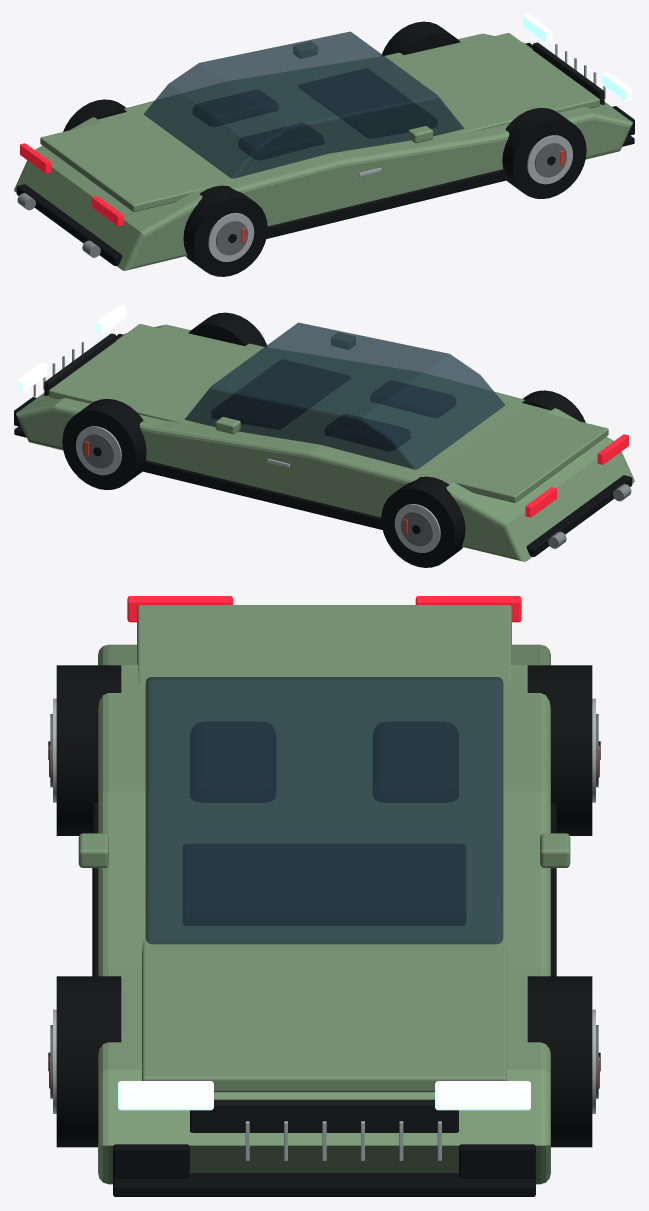
The model's file is lambo_sian_roadster.glb.
The picture shows the model from 3 angles, top to bottom: view 1: azimuth 30°, elevation 25°; view 2: azimuth 150°, elevation 25°; view 3: azimuth 270°, elevation 25°; orthographic projection. The views are drawn at different scales.
Visible parts, largest first — view 1: sculpted_body, glasshouse, hood_center, rear_deck, dashboard, front_right_wheel_tire, rear_right_wheel_tire, side_skirt_1, seat_1, seat_-1, front_left_wheel_tire, rear_diffuser (+10 smaller); view 2: sculpted_body, glasshouse, hood_center, rear_deck, dashboard, front_left_wheel_tire, rear_left_wheel_tire, side_skirt_-1, seat_-1, seat_1, front_right_wheel_tire, rear_diffuser (+10 smaller); view 3: sculpted_body, glasshouse, hood_center, rear_deck, dashboard, front_splitter, front_left_wheel_tire, front_right_wheel_tire, front_grille, rear_left_wheel_tire, rear_right_wheel_tire, seat_-1 (+11 smaller).
Boxes of the visible parts, x1,y1,x2,y2 form: sculpted_body: (14,33,632,270); glasshouse: (144,31,464,178); hood_center: (368,33,599,133); rear_deck: (40,117,215,211); dashboard: (299,68,436,137); front_right_wheel_tire: (502,108,586,198); rear_right_wheel_tire: (183,185,267,276); side_skirt_1: (266,169,508,238); seat_1: (239,123,323,159); seat_-1: (193,90,277,126); front_left_wheel_tire: (382,21,460,55); rear_diffuser: (16,184,122,265); sculpted_body: (16,324,634,561); glasshouse: (184,322,504,469); hood_center: (49,324,280,424); rear_deck: (433,408,608,502); dashboard: (212,359,349,428); front_left_wheel_tire: (62,399,146,489); rear_left_wheel_tire: (381,476,465,567); side_skirt_-1: (140,460,382,529); seat_-1: (325,414,409,450); seat_1: (371,381,455,417); front_right_wheel_tire: (188,312,266,346); rear_diffuser: (526,475,632,556); sculpted_body: (98,644,550,1184); glasshouse: (145,677,503,944); hood_center: (142,938,506,1092); rear_deck: (137,605,511,685); dashboard: (183,844,465,925); front_splitter: (113,1173,535,1196); front_left_wheel_tire: (527,976,592,1147); front_right_wheel_tire: (56,976,121,1147); front_grille: (190,1099,458,1132); rear_left_wheel_tire: (527,665,592,835); rear_right_wheel_tire: (56,665,121,835); seat_-1: (373,722,458,802).
Bounding box in the file's own units: 5.32 × 1.08 × 2.39.
